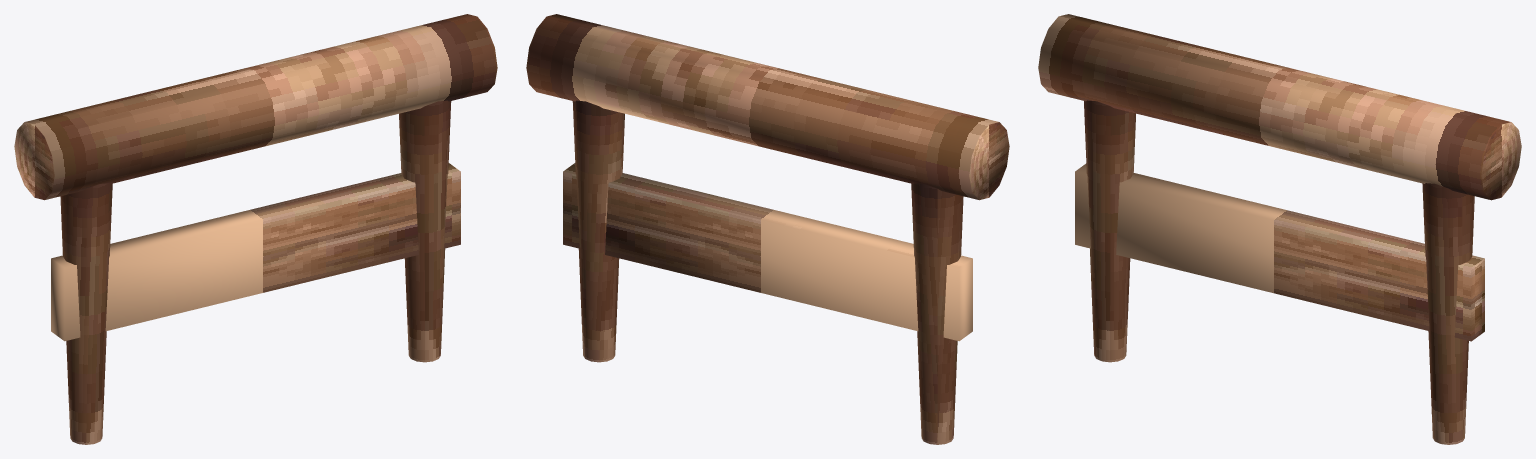
File: int_wst_fence.dae
The picture shows the model from 3 angles, left to right: view 1: azimuth 30°, elevation 25°; view 2: azimuth 150°, elevation 25°; view 3: azimuth 330°, elevation 25°; orthographic projection.
Parts seen in each view (by area): view 1: int_wst_fence; view 2: int_wst_fence; view 3: int_wst_fence.
Part boxes in pixels (x1,y1,x2,y2): int_wst_fence: (14, 14, 497, 444); int_wst_fence: (526, 14, 1009, 444); int_wst_fence: (1038, 14, 1521, 444).
Bounding box in the file's own units: 30.4 × 21.4 × 4.8.
1 material, 1 textured.
